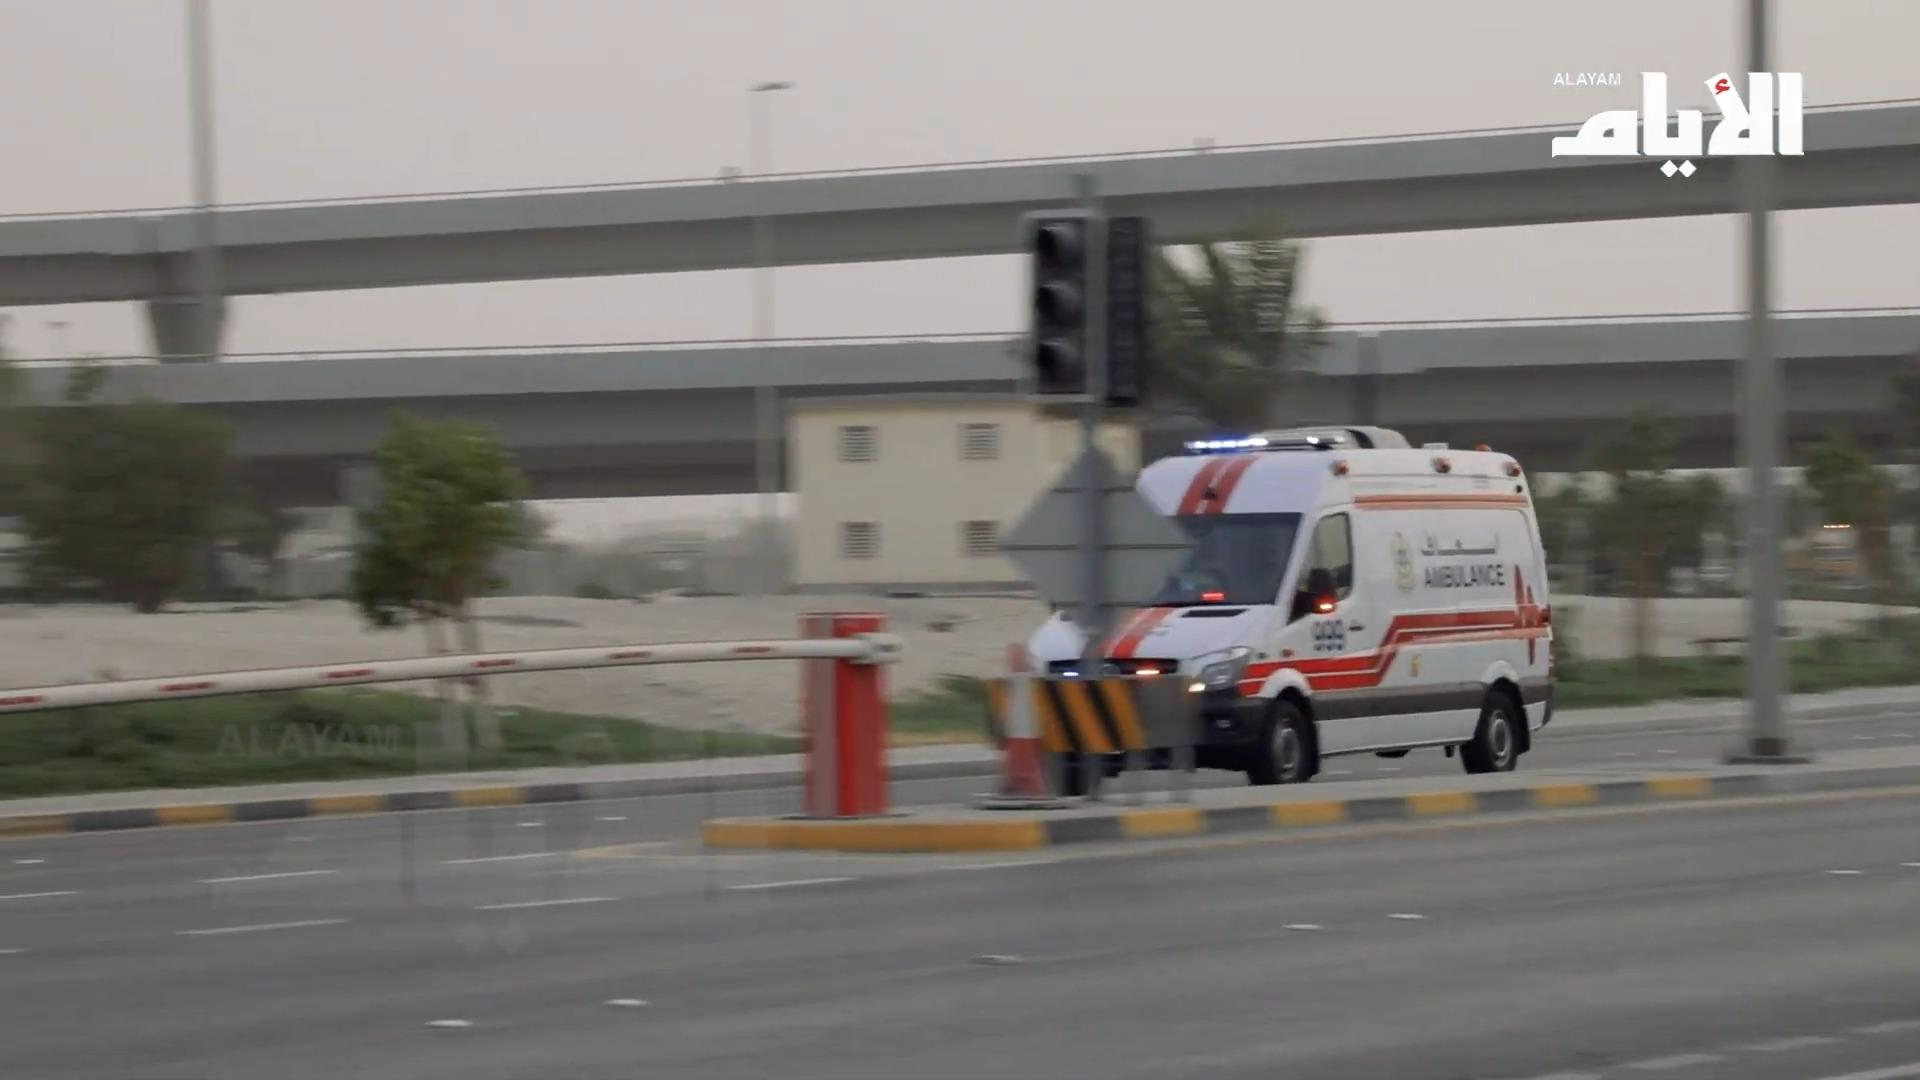ambulance_on: (1025, 427, 1555, 789)
